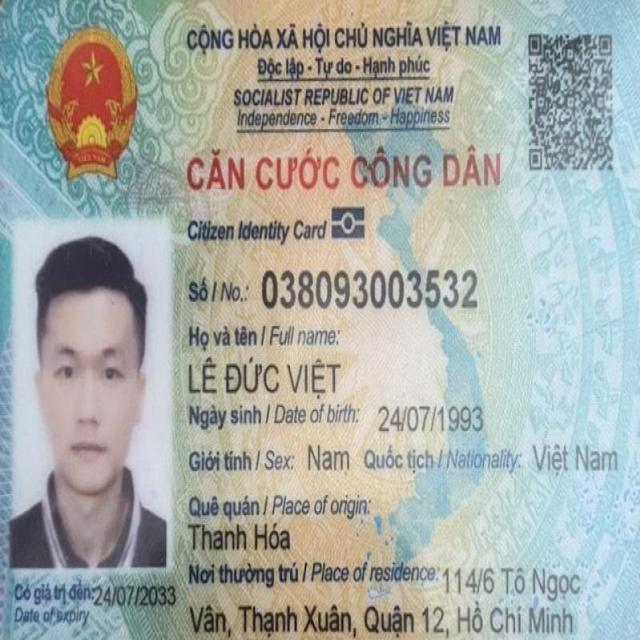current_place: (189, 601, 576, 640), (443, 564, 582, 603)
dob: (378, 404, 488, 435)
expire_date: (261, 265, 481, 312), (93, 584, 178, 609)
gender: (307, 443, 351, 473)
name: (188, 354, 341, 400)
nationality: (532, 442, 619, 476)
origin_place: (186, 522, 292, 554)
